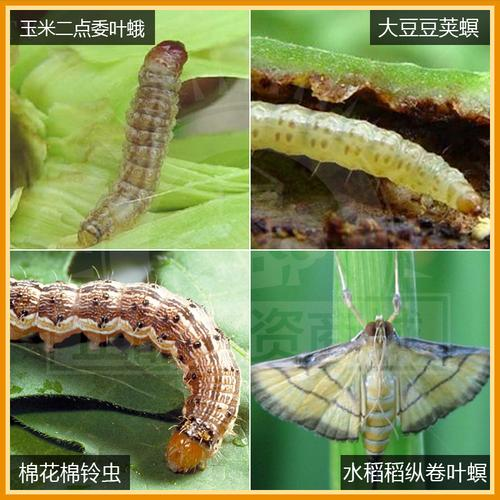Crambidae: (254, 249, 491, 465)
